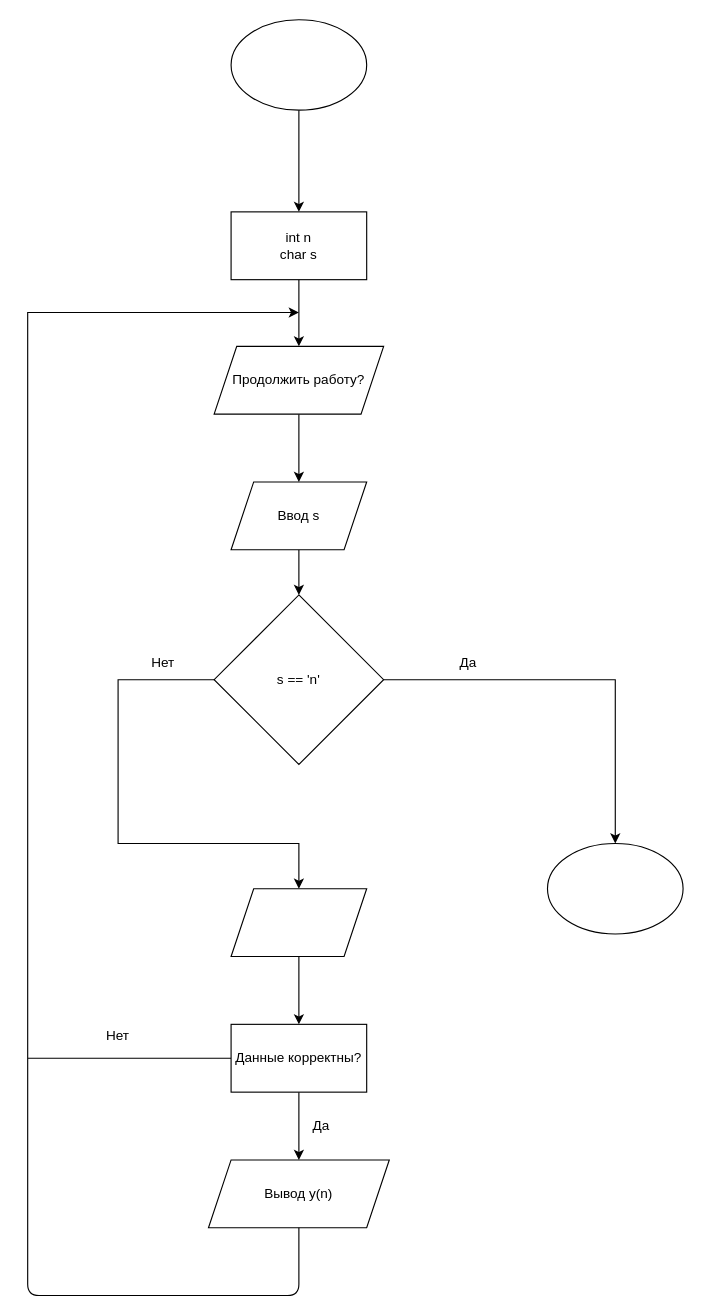
The diagram is 703 pixels wide and 1316 high, and some of its shapes have lost their labels. The shapes that lost their labels are listed below. From the top down, each one's centre as x and y in pixels, then its label:
At [298,64]: "Начало".
At [614,888]: "Конец".
At [298,922]: "Ввод n".
